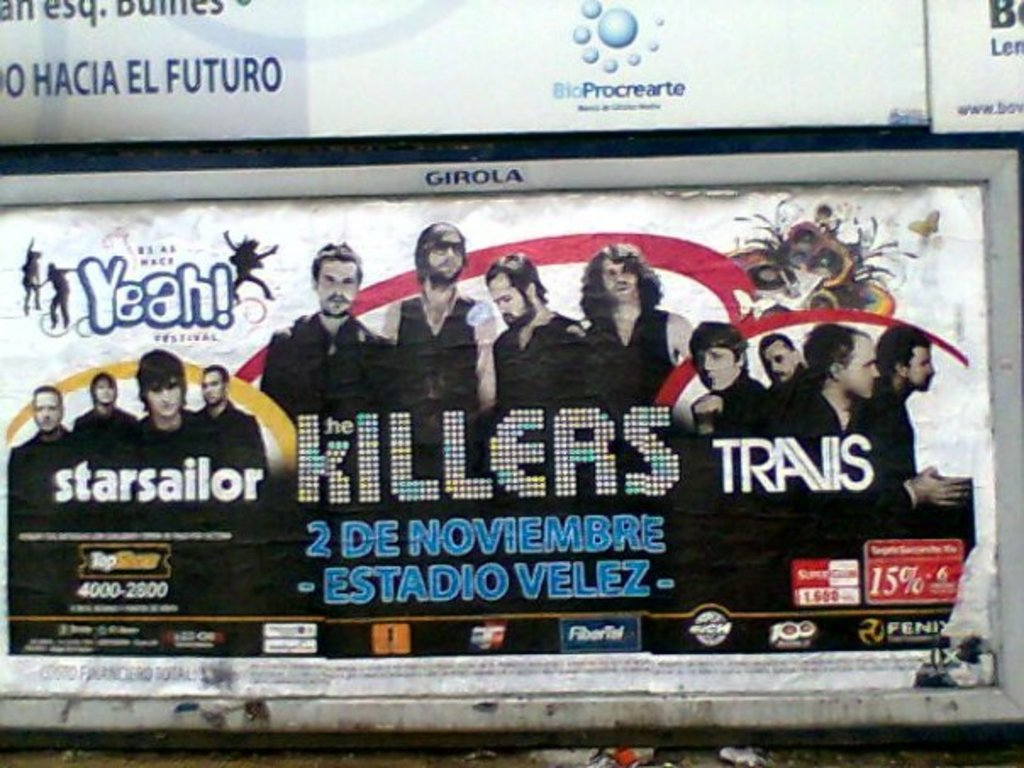Person: (7, 222, 971, 527)
